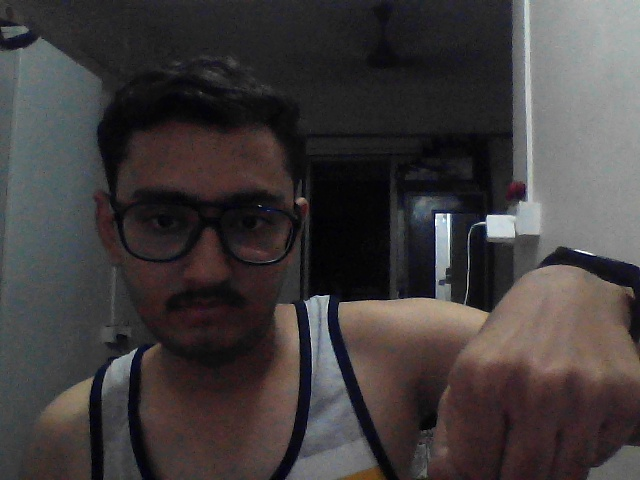Yes: (405, 204, 640, 480)
